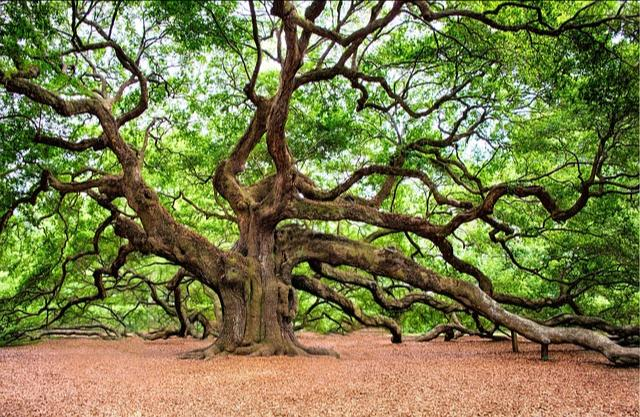Non_Gorille: (63, 2, 546, 371)
